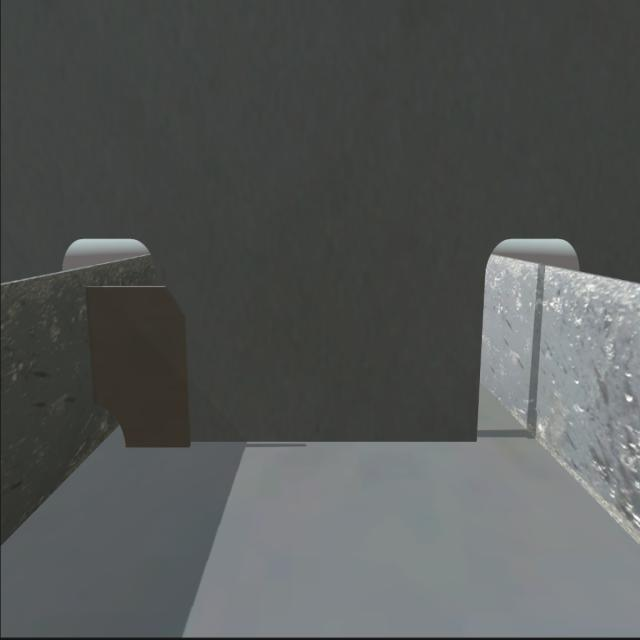fillet_hole: (96, 412, 127, 451)
fillet_yong_jeop_jang: (123, 425, 491, 458)
longi_yong_jeop_jang: (82, 282, 107, 420)
plate_CP03: (86, 284, 191, 448)
